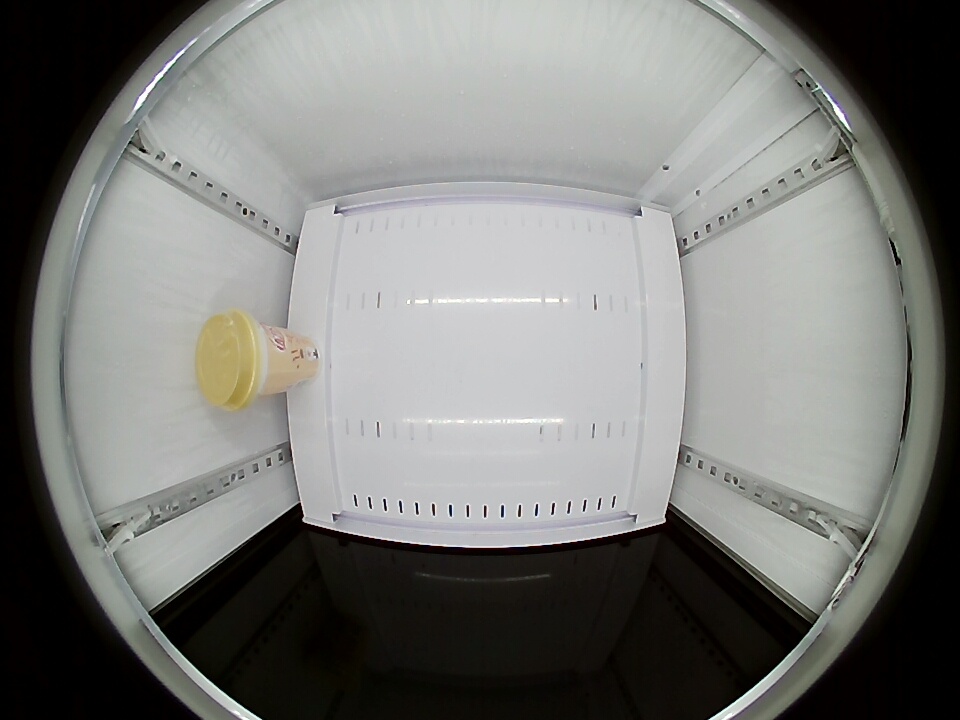youlemei: (196, 310, 277, 411)
